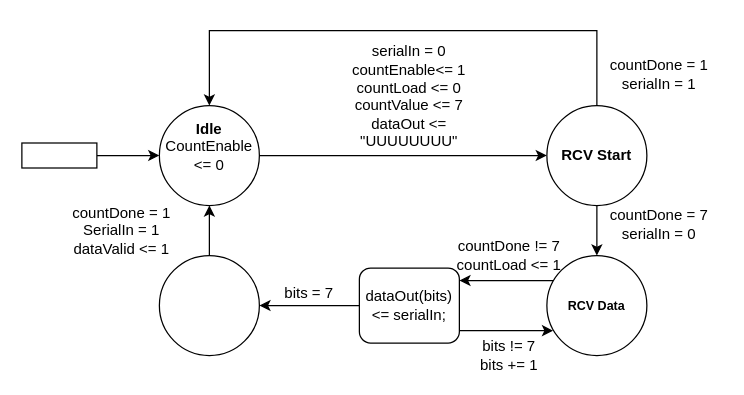
The diagram is 744 pixels wide and 395 high, and some of its shapes have lost their labels. The shapes that lost their labels are listed below. From the top down, each one's box as (x1, y1, x2, y2) in pixels, then its label:
(21, 142, 97, 168): Reset
(158, 254, 259, 356): RCV End
